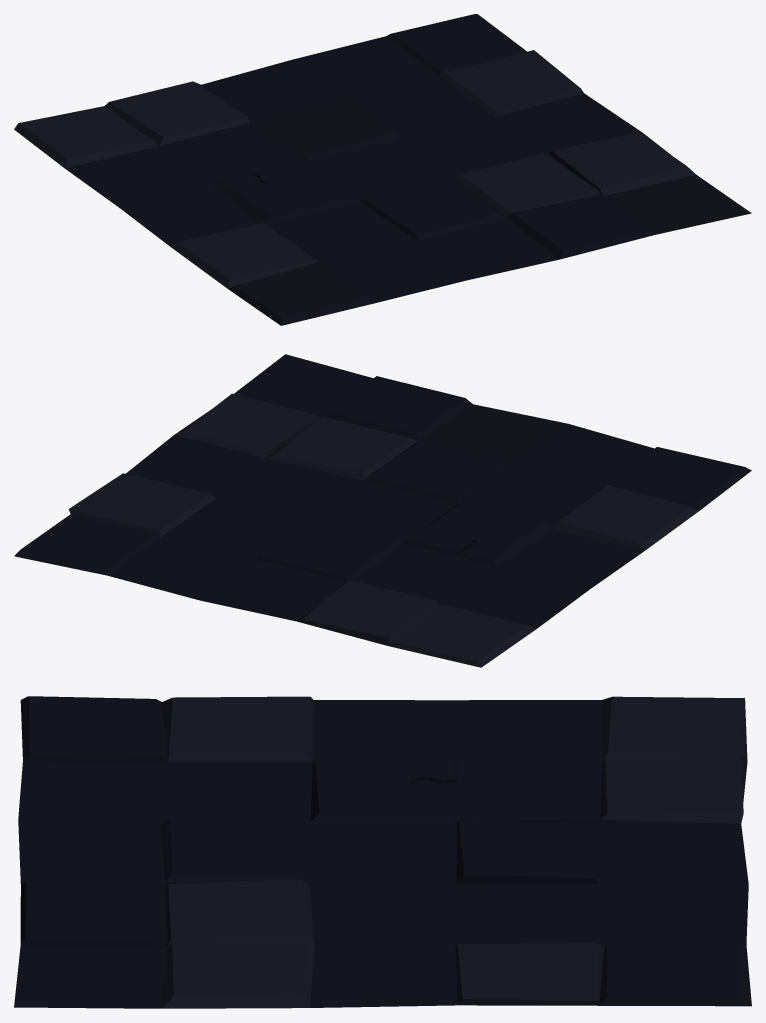
File: floor 2.fbx
3 views of the same model, one above another, from view 1: azimuth 30°, elevation 25°; view 2: azimuth 150°, elevation 25°; view 3: azimuth 270°, elevation 25° (orthographic). The views are drawn at different scales.
Parts seen in each view (by area): view 1: floor 2; view 2: floor 2; view 3: floor 2.
Boxes of the visible parts, x1=… form: floor 2: x1=14, y1=14, x2=751, y2=325; floor 2: x1=14, y1=354, x2=751, y2=667; floor 2: x1=14, y1=696, x2=751, y2=1008.
Bounding box in the file's own units: 402 × 7.05 × 406.
Materials: 1 (1 with a texture image).
